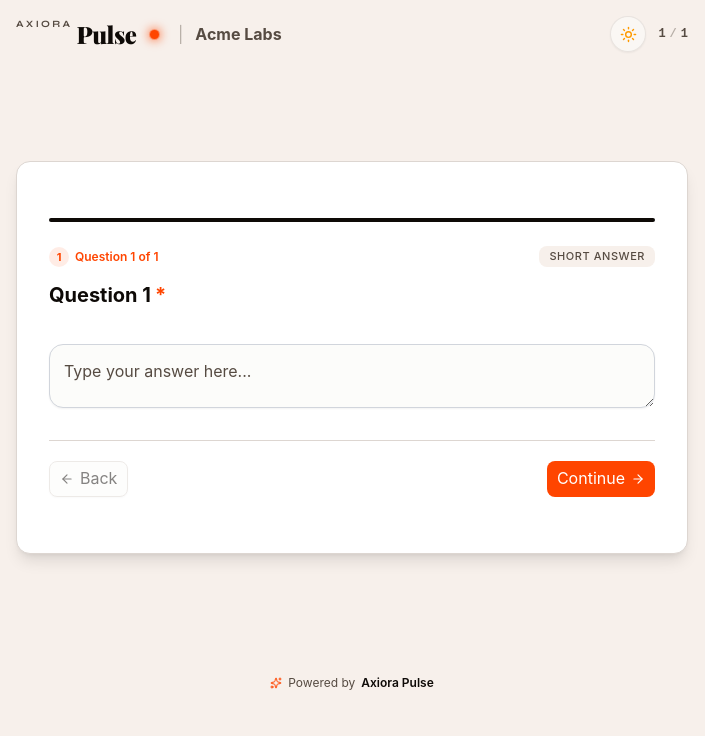
Test: PublicSurveyPage › disables the submit button and shows progress while submitting
The width and height of the screenshot is (705, 736).
Type "My Answer" into the text box with placeholder "Type your answer here...". click: {"x": 352, "y": 376}
box: [49,344,655,408]
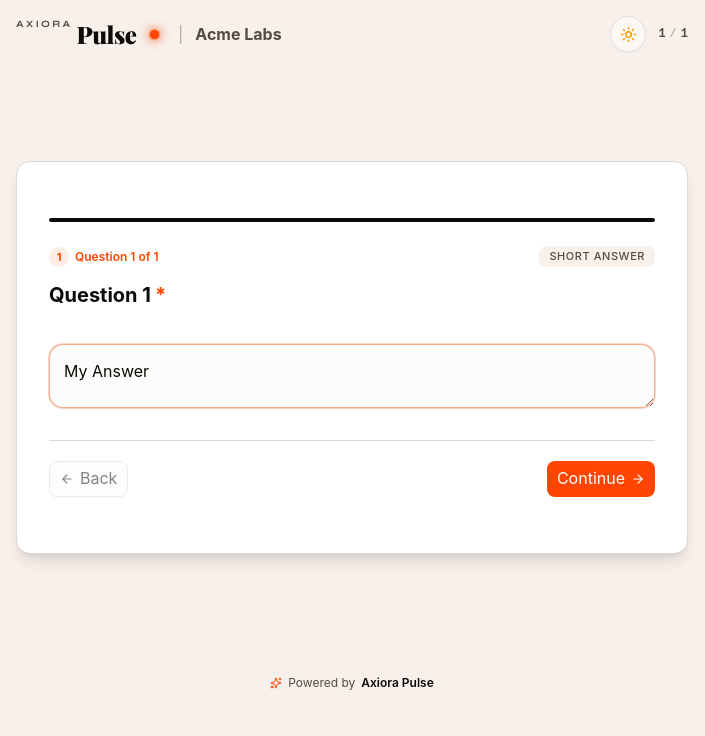
Click the button "Continue". click: {"x": 601, "y": 479}
box: [547,461,655,497]
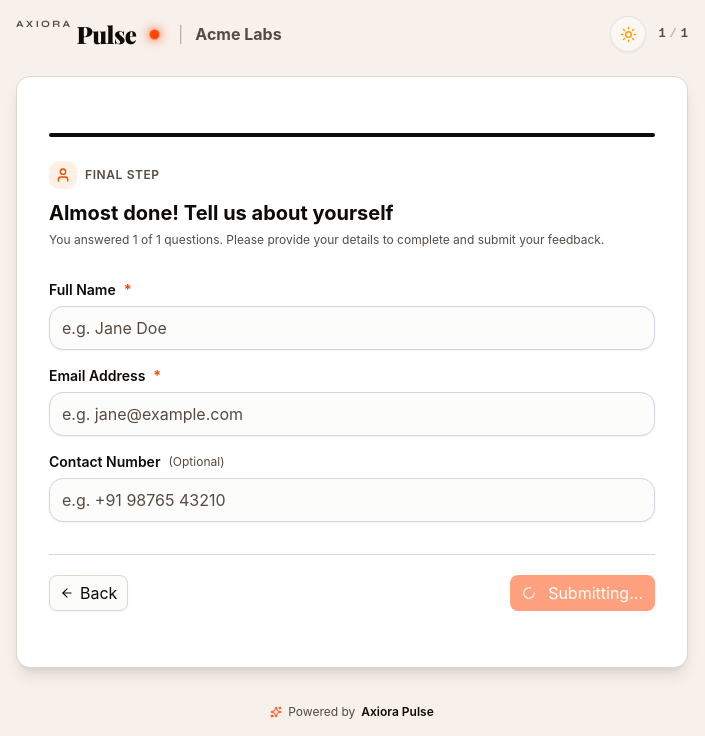
Now the button "Submitting..." is disabled, box [510,575,655,611]
